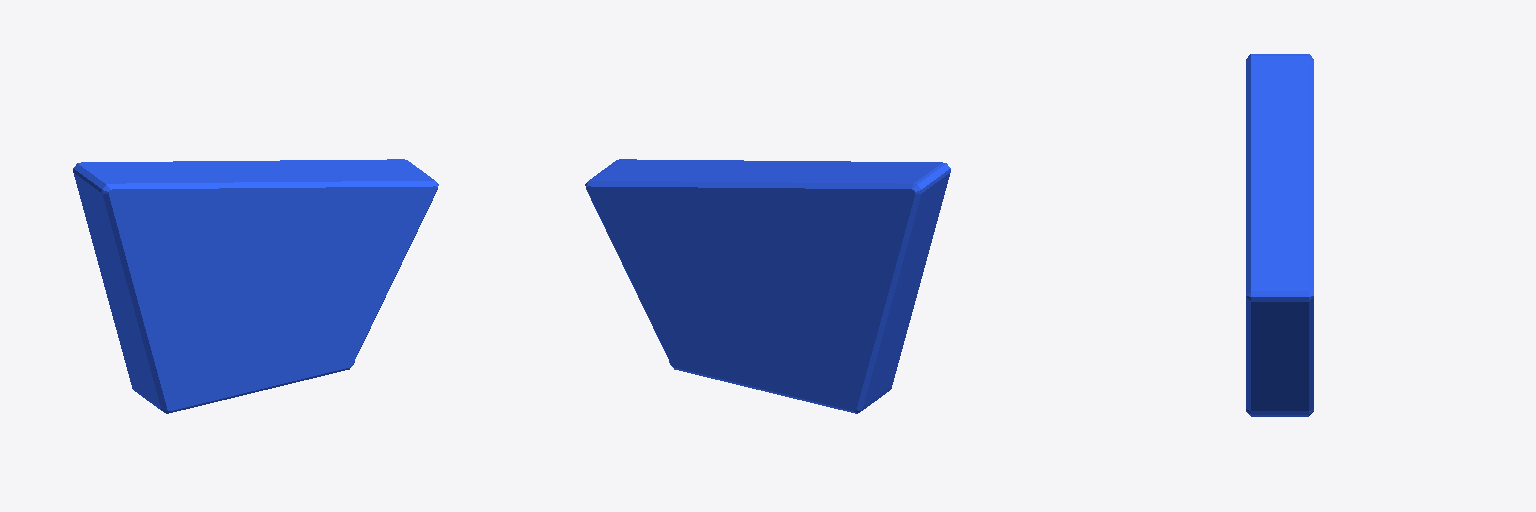
Rendered from handr.obj.
The picture shows the model from 3 angles: view 1: azimuth 30°, elevation 25°; view 2: azimuth 150°, elevation 25°; view 3: azimuth 270°, elevation 25°; orthographic projection.
Visible parts, largest first — view 1: handr; view 2: handr; view 3: handr.
Part boxes in pixels (x1,y1,x2,y2): handr: (73, 159, 438, 413); handr: (585, 159, 950, 413); handr: (1246, 54, 1313, 416).
Size of the model in its own units: 0.0864 by 0.06 by 0.015.